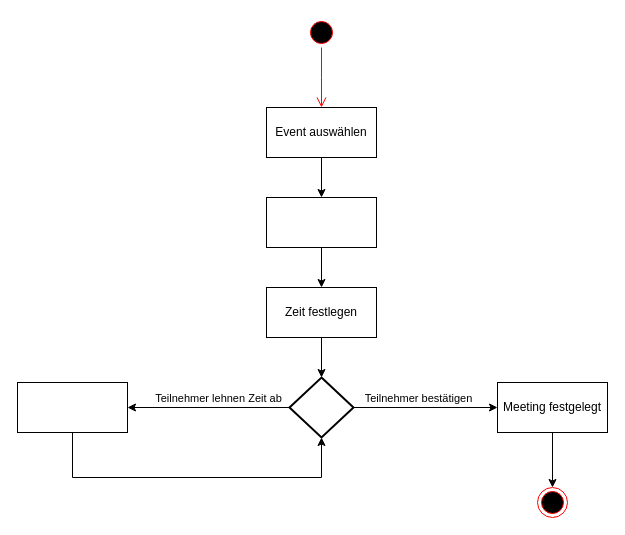
The diagram is 625 pixels wide and 535 high, and some of its shapes have lost their labels. Here are the shapes that lost their labels. From the top down, the centre of each, then its label:
point (321, 222): Teilnehmer festlegen
point (72, 407): Neue Zeit festlegen
